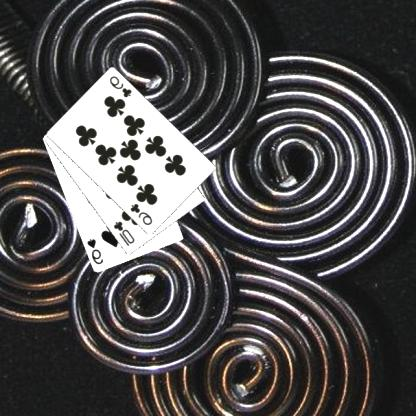10C: (112, 218, 138, 248)
6S: (86, 236, 106, 266)
9C: (108, 73, 135, 99), (129, 201, 155, 227)
